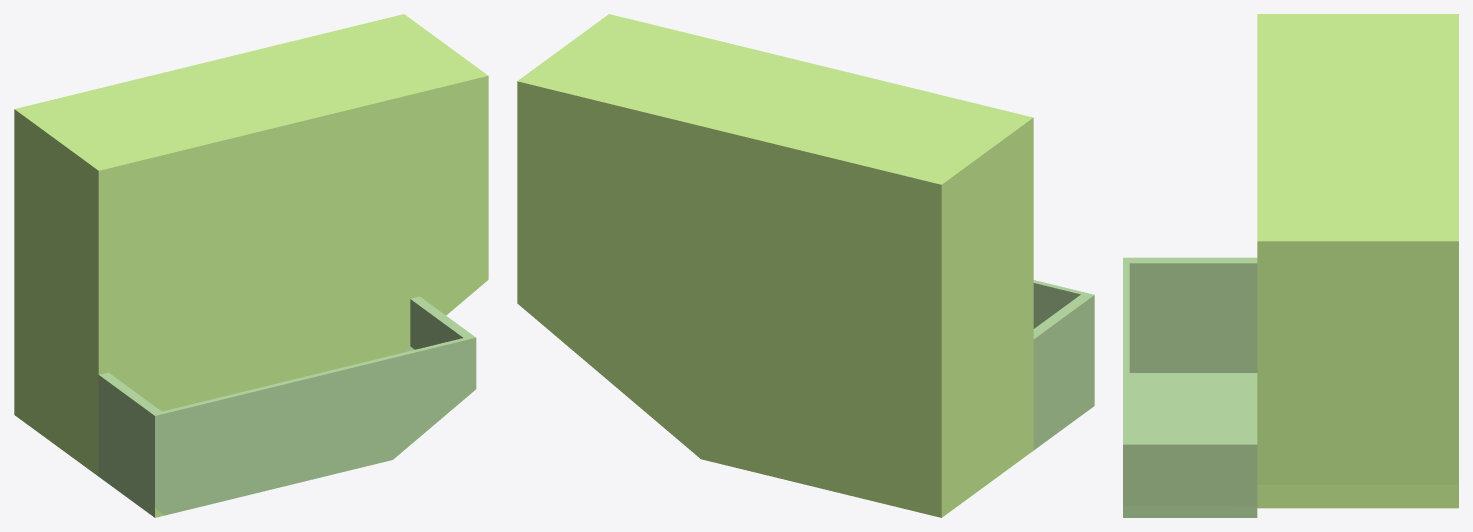
3 renders of one model, left to right at view 1: azimuth 30°, elevation 25°; view 2: azimuth 150°, elevation 25°; view 3: azimuth 270°, elevation 25°, orthographic. The views are drawn at different scales.
Visible parts, largest first — view 1: Mesh_0.004; view 2: Mesh_0.004; view 3: Mesh_0.004.
Boxes of the visible parts, x1,y1,x2,y2 form: Mesh_0.004: (14,14,488,517); Mesh_0.004: (517,14,1094,517); Mesh_0.004: (1123,14,1458,517).
Bounding box in the file's own units: 4 × 3 × 2.5.
